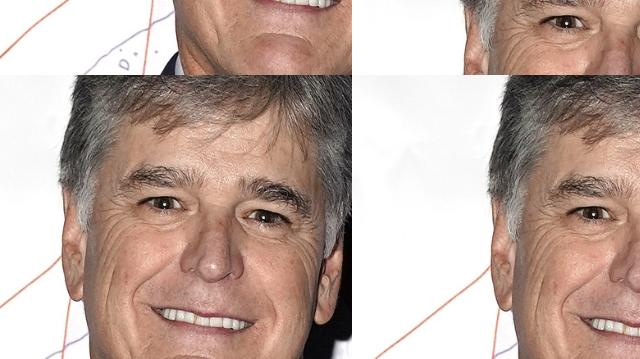chin: (54, 252, 92, 264), (553, 350, 568, 359)
crows_feet: (535, 205, 563, 247), (262, 27, 298, 59), (122, 148, 142, 174)
forehead: (395, 26, 441, 62), (499, 0, 536, 29), (455, 0, 491, 24), (407, 0, 443, 22), (96, 92, 130, 114), (371, 0, 400, 21), (33, 114, 81, 124)
frown_line: (465, 34, 481, 75)
gummy_smile: (554, 280, 582, 312), (91, 194, 117, 226), (34, 205, 48, 239)
masseter: (528, 273, 548, 323)
